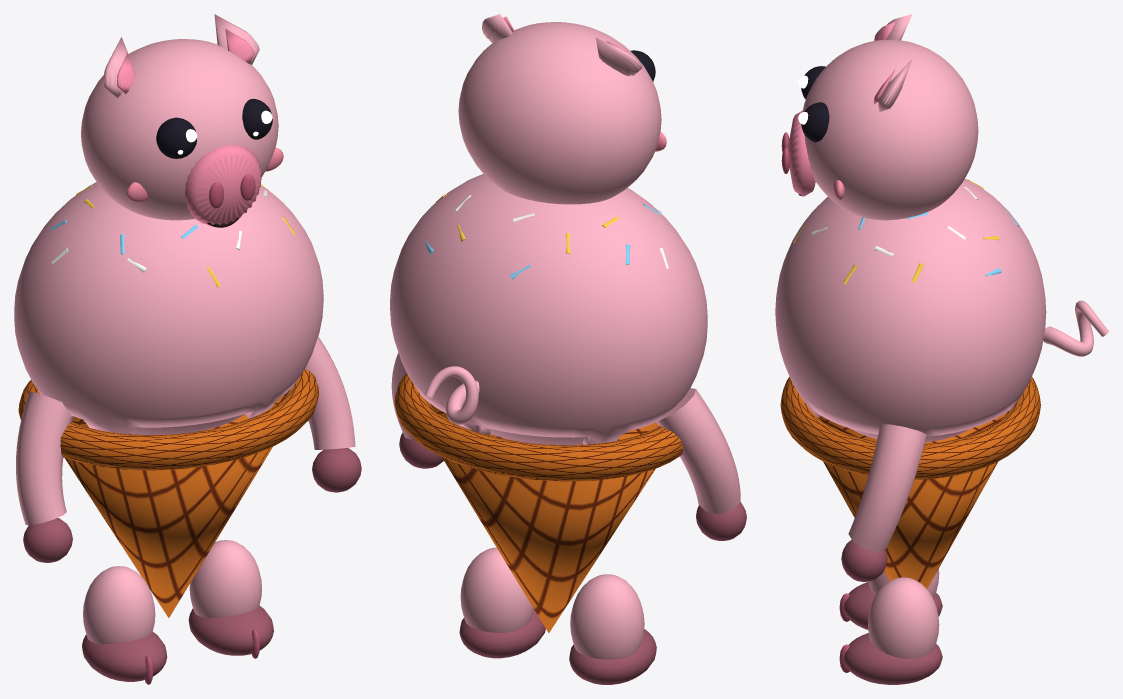
Rendered from pilot_gris2_is.glb.
The picture shows the model from 3 angles, left to right: view 1: azimuth 30°, elevation 25°; view 2: azimuth 150°, elevation 25°; view 3: azimuth 270°, elevation 25°; orthographic projection. The views are drawn at different scales.
Visible parts, largest first — view 1: kropp, hode, bein_vf, vinge_v, bein_hf, vinge_h; view 2: kropp, hode, bein_vf, vinge_v, bein_hf, hale, vinge_h; view 3: kropp, hode, bein_hf, vinge_h, bein_vf, hale.
Boxes of the visible parts, <box> form: kropp: <box>14,182,323,617</box>; hode: <box>81,14,283,227</box>; bein_vf: <box>82,566,167,684</box>; vinge_v: <box>16,391,73,562</box>; bein_hf: <box>188,540,273,658</box>; vinge_h: <box>305,336,361,492</box>; kropp: <box>390,174,707,633</box>; hode: <box>458,14,666,204</box>; bein_vf: <box>569,574,656,684</box>; vinge_v: <box>656,388,746,540</box>; bein_hf: <box>459,547,545,658</box>; hale: <box>424,366,479,424</box>; vinge_h: <box>391,353,443,468</box>; kropp: <box>775,178,1046,588</box>; hode: <box>781,14,978,220</box>; bein_hf: <box>839,577,942,684</box>; vinge_h: <box>841,424,926,581</box>; bein_vf: <box>839,568,942,629</box>; hale: <box>1043,300,1108,356</box>.
Bounding box in the file's own units: 1.06 × 1.91 × 0.9359.
14 materials, 1 textured.
